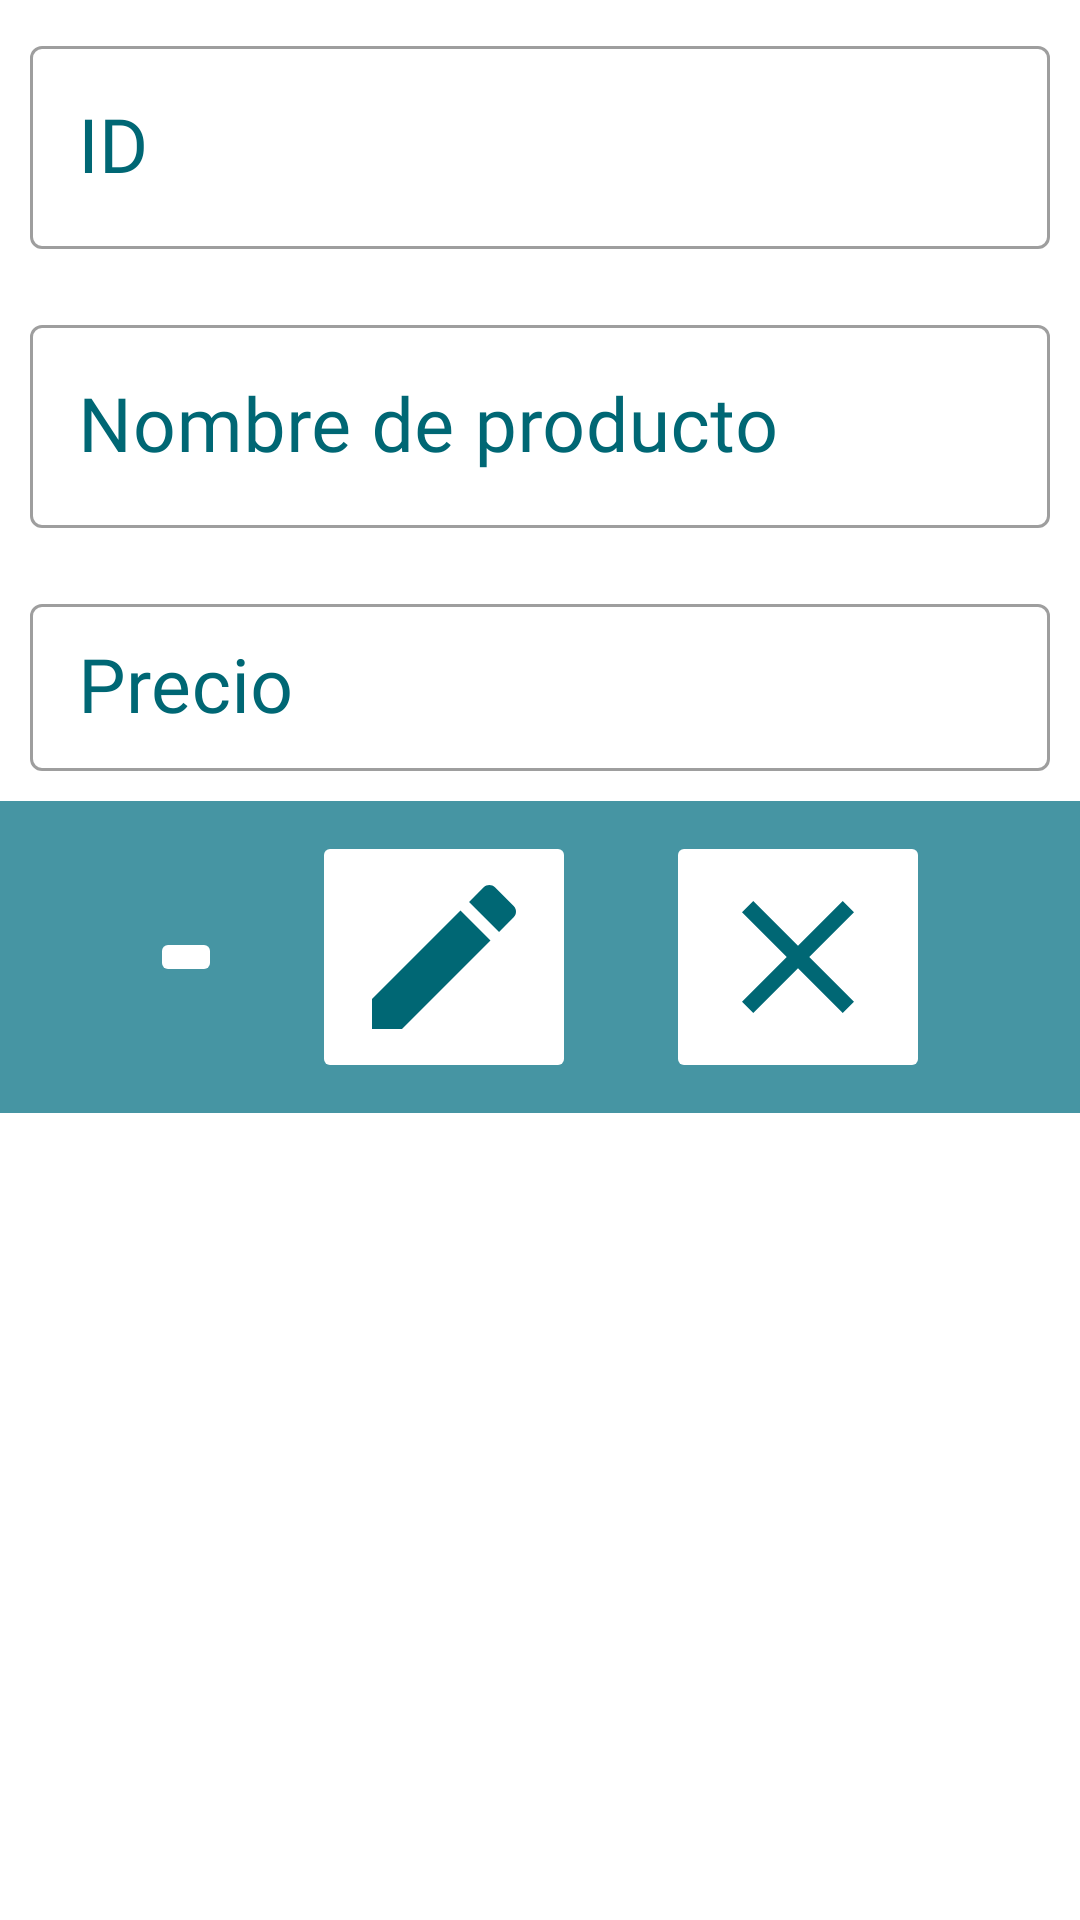

Icons on this 1080x1920 Android screen, each with its box as {"x1": x1, "y1": y1, "x2": x2, "y2": y2}:
clear: {"x1": 678, "y1": 849, "x2": 918, "y2": 1065}
edit: {"x1": 324, "y1": 849, "x2": 564, "y2": 1065}
